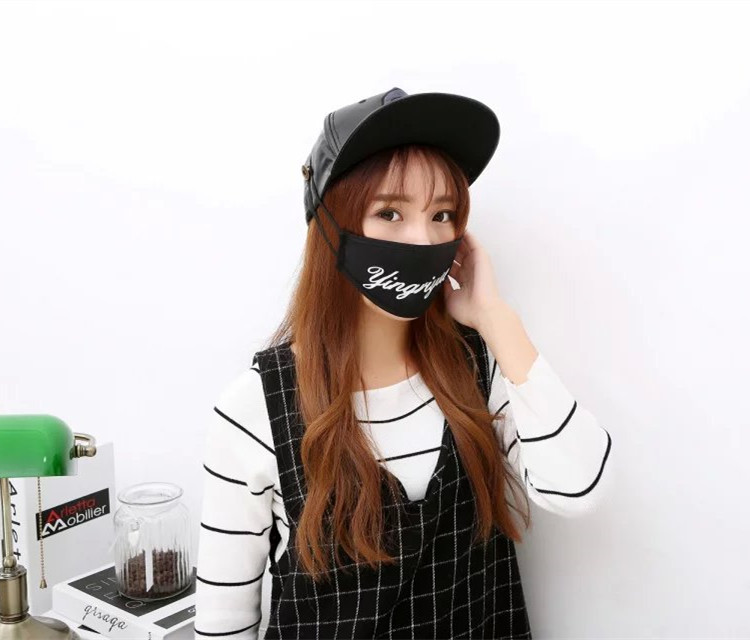face_mask: (335, 148, 464, 316)
